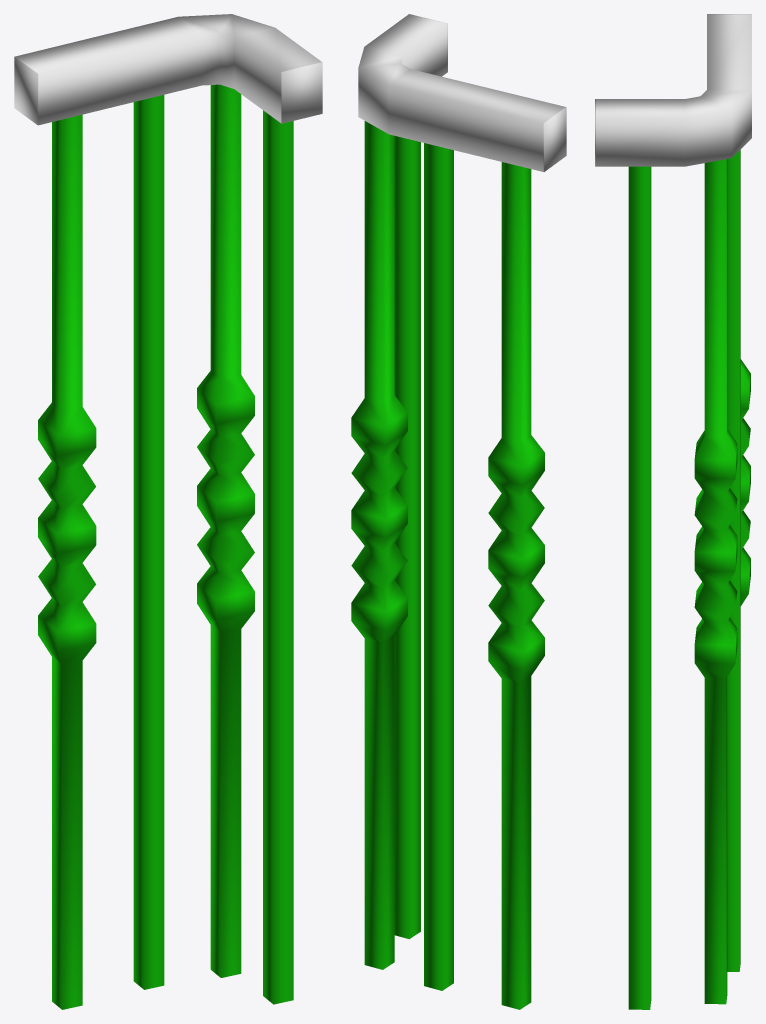
The model's file is fence_corner.fbx.
3 views of the same model, side by side, from view 1: azimuth 30°, elevation 25°; view 2: azimuth 150°, elevation 25°; view 3: azimuth 270°, elevation 25° (orthographic). The views are drawn at different scales.
Visible parts, largest first — view 1: fence, railing; view 2: fence, railing; view 3: fence, railing.
Part boxes in pixels (x1,y1,x2,y2): fence: (38,84,293,1009); railing: (14,14,322,125); fence: (351,121,544,1009); railing: (358,14,566,171); fence: (628,150,750,1009); railing: (595,14,751,166).
Bounding box in the file's own units: 27.5 × 110 × 17.5.
